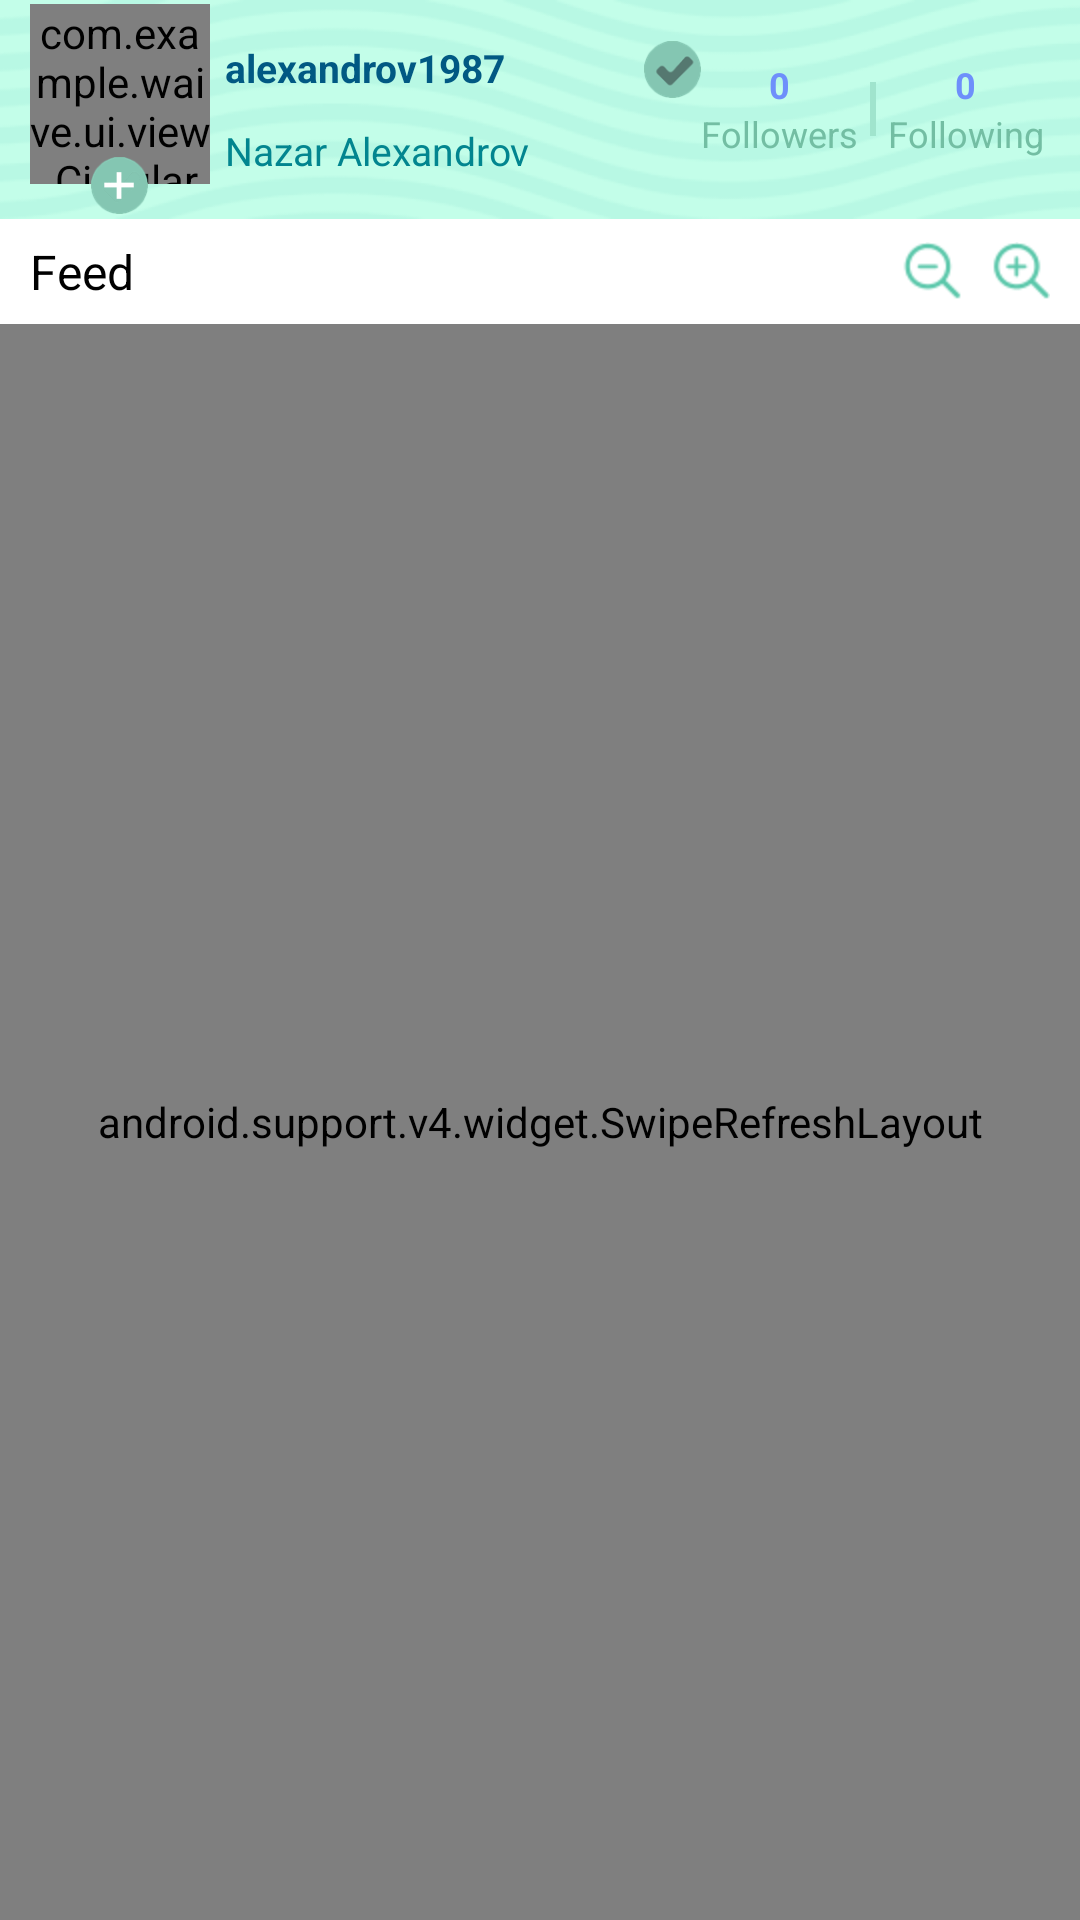

Screen size 1080×1920. Icon name, then its center in pixels as point (x, y):
plus: point (119, 185)
